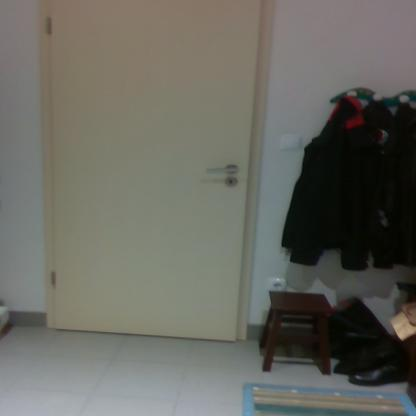door: (52, 0, 246, 343)
hinged: (46, 267, 60, 287), (44, 19, 56, 40)
lever: (204, 166, 239, 174)
